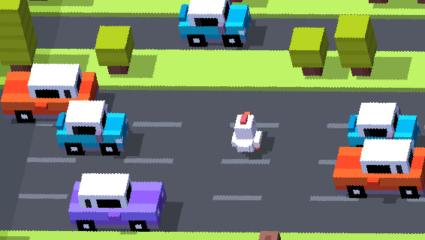hen: (231, 112, 264, 153)
obstacle: (68, 175, 164, 232), (0, 66, 92, 125), (334, 139, 423, 198), (57, 101, 130, 156), (181, 0, 255, 47), (349, 104, 418, 148), (0, 0, 38, 66), (334, 16, 374, 76), (94, 26, 133, 73), (288, 28, 325, 73), (259, 232, 282, 240)
